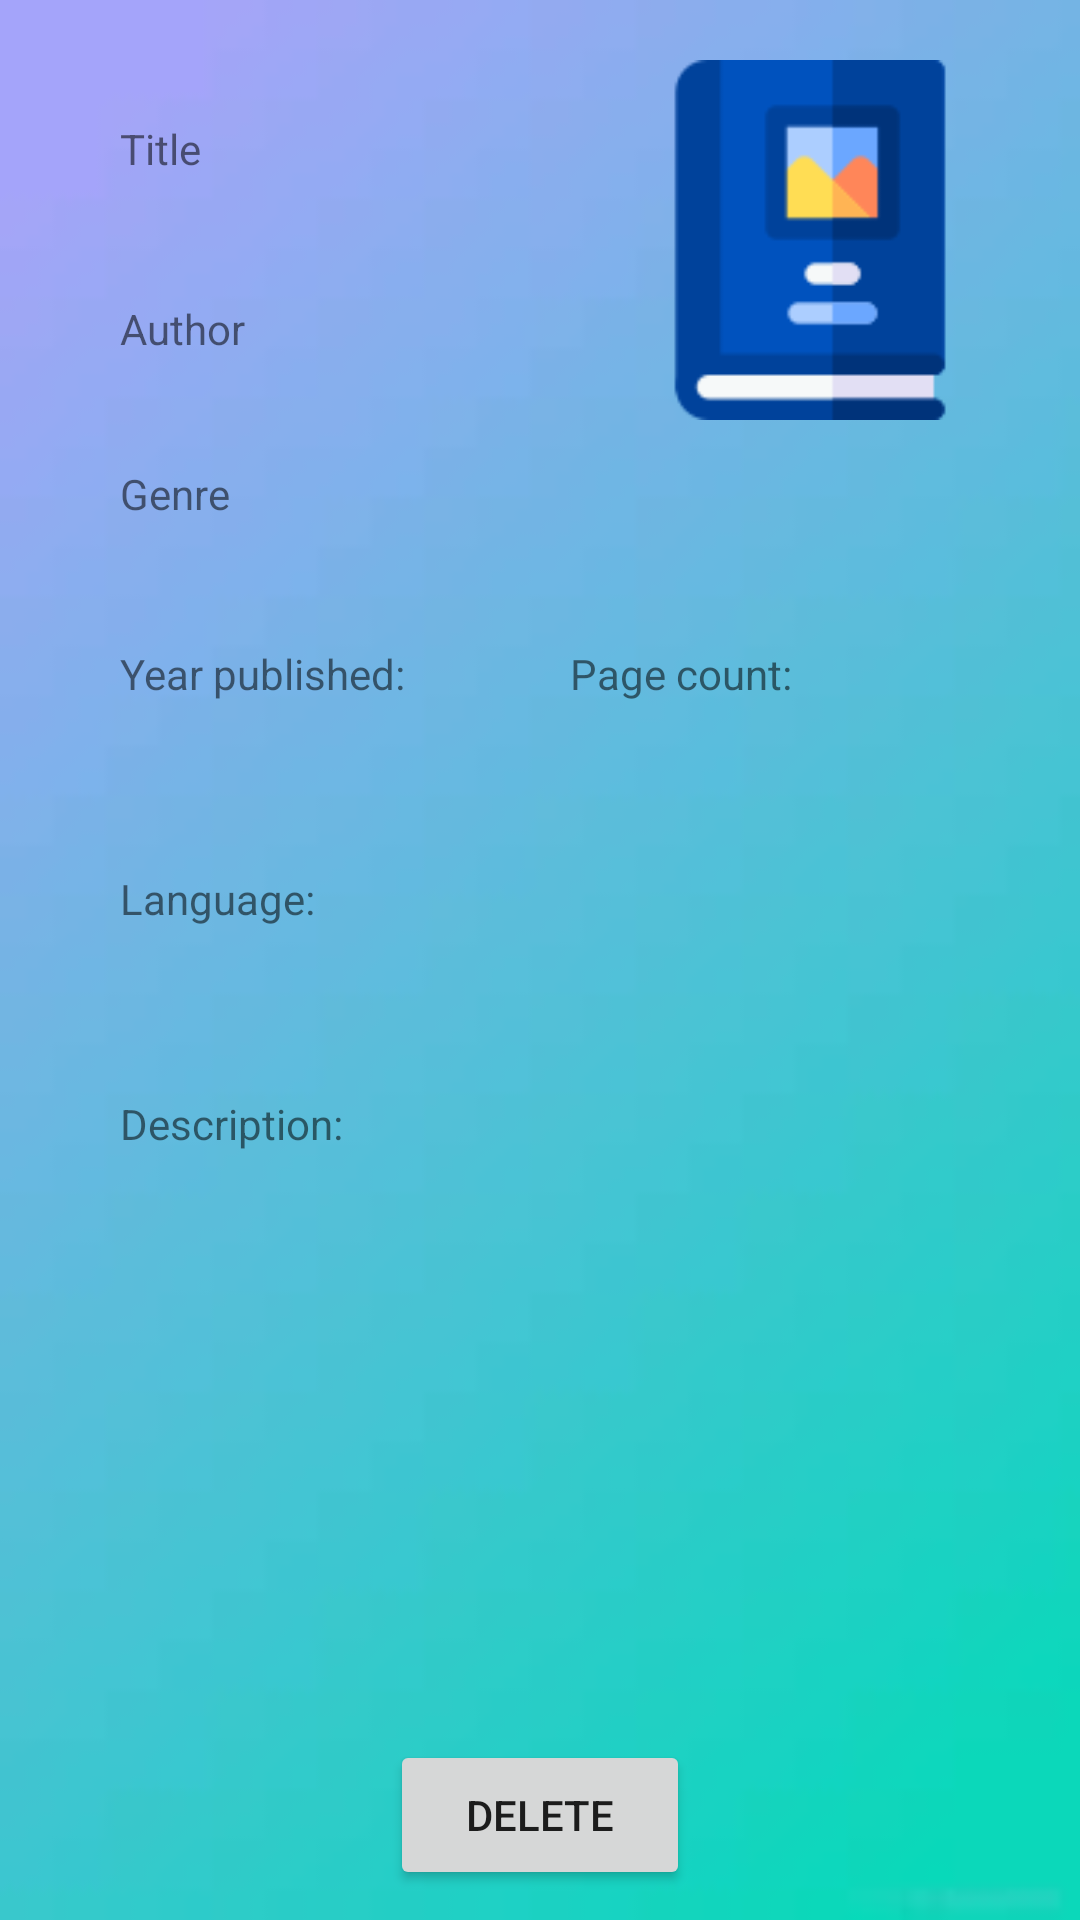

Icon bounding boxes for this 1080×1920 phone screenshot, format box(x1, y1, x2, y2):
photo book: box(674, 60, 946, 420)
